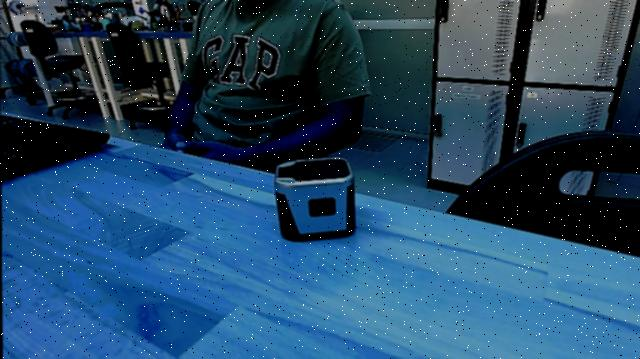adapter: (267, 153, 363, 247)
